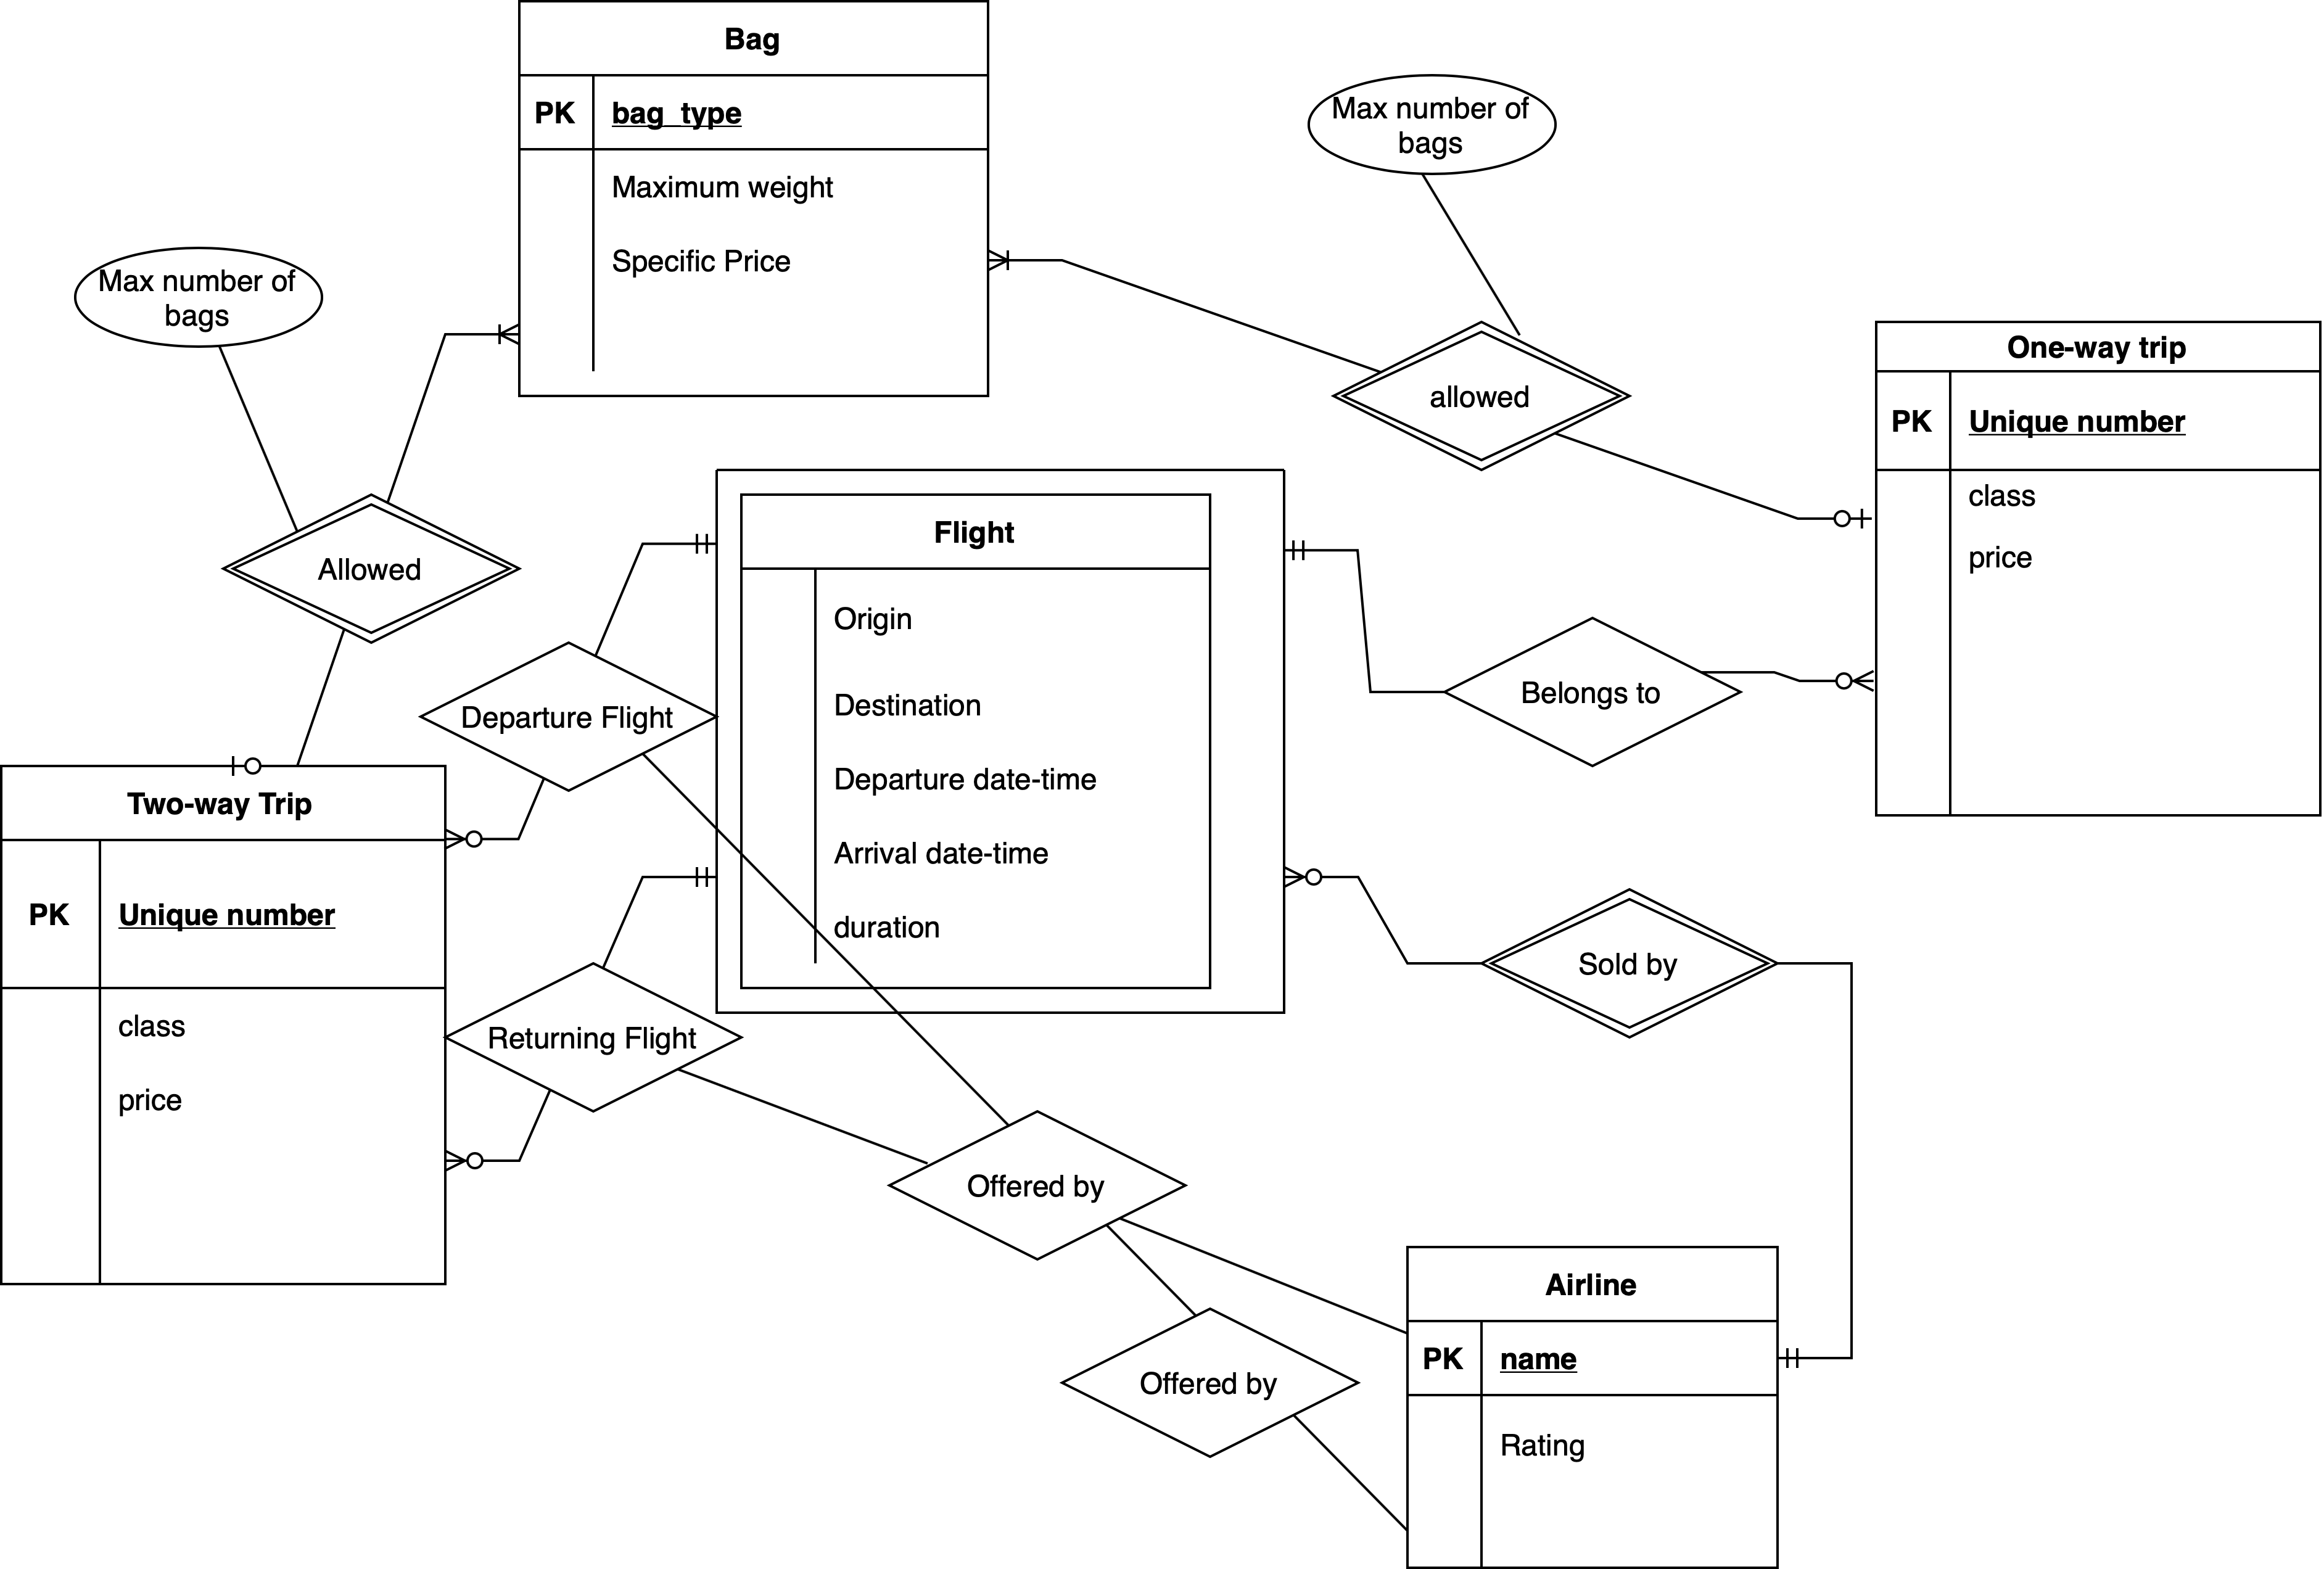entity: (2, 765, 448, 1285), (1876, 326, 2324, 821), (517, 0, 993, 401), (1408, 1250, 1776, 1565)
ident_rel: (221, 494, 522, 644), (1482, 886, 1779, 1035), (1335, 320, 1636, 468)
many: (1284, 862, 1356, 895), (445, 825, 518, 855), (1807, 669, 1876, 699), (447, 1147, 518, 1175), (447, 322, 522, 348), (991, 247, 1056, 273)
one: (1800, 504, 1876, 538), (644, 863, 713, 893), (643, 529, 718, 555), (1284, 539, 1357, 566), (1779, 1345, 1848, 1373)
rel: (891, 1107, 1191, 1261), (420, 641, 718, 792), (1061, 1308, 1364, 1453), (447, 967, 743, 1110), (1448, 620, 1739, 765)
rel_attr: (1308, 74, 1562, 172), (77, 249, 327, 347)
weak_entity: (716, 473, 1284, 1016)
